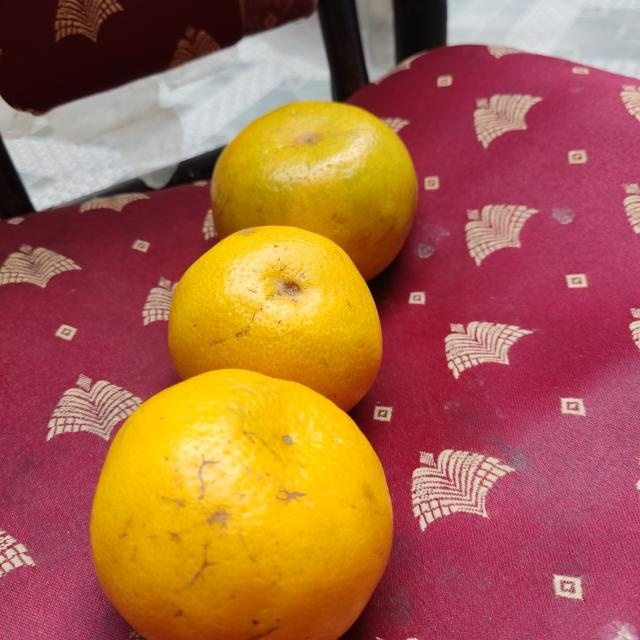agrume: (86, 368, 394, 640), (168, 223, 383, 415), (215, 98, 417, 277)
